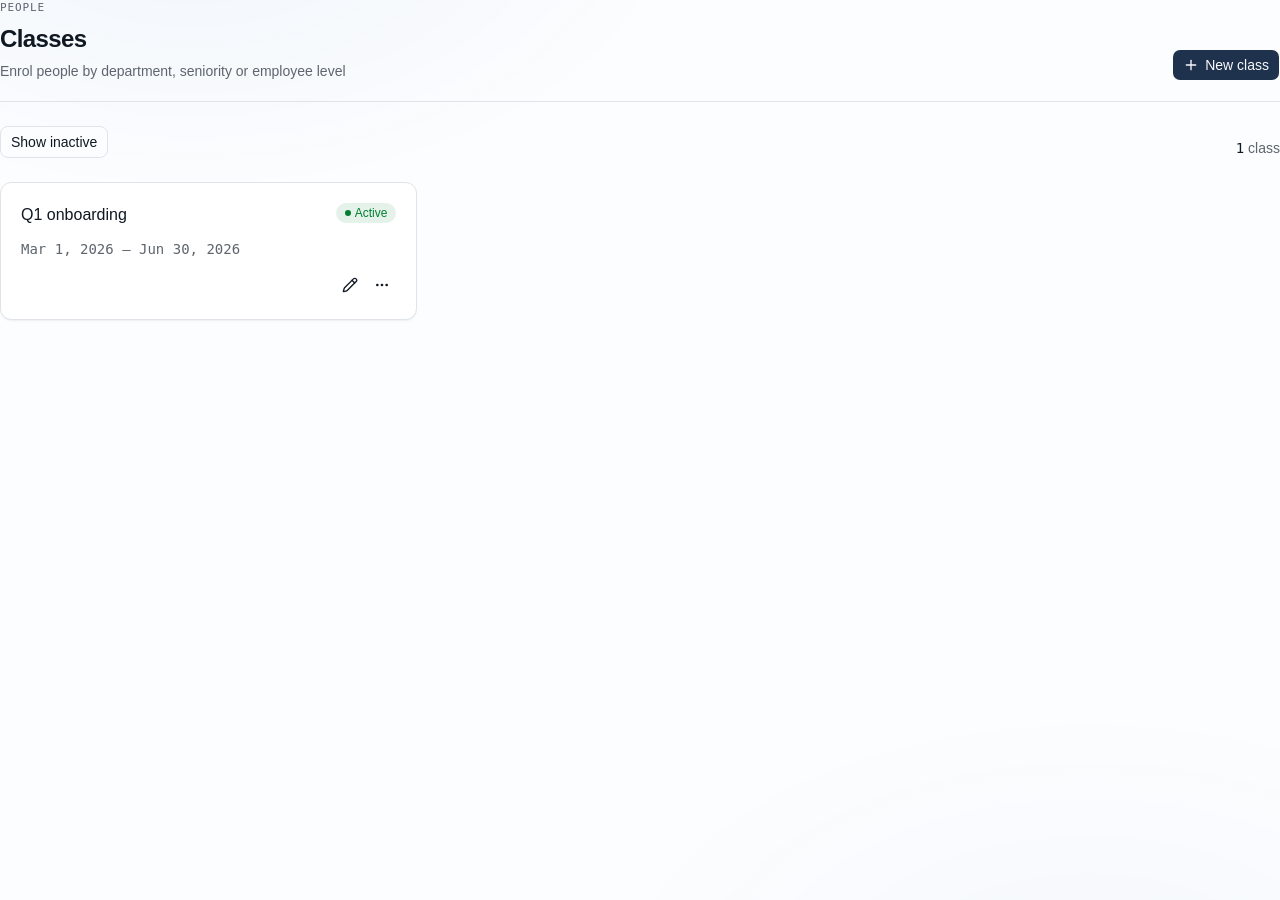
it: ClassesPage › edits a class through the same dialog
This screenshot has width=1280, height=900.
Check: the link "Q1 onboarding" is shown, box [21,202,127,226]
Click the button named "Edit Q1 onboarding" at x=350, y=284, box [336,270,364,298]
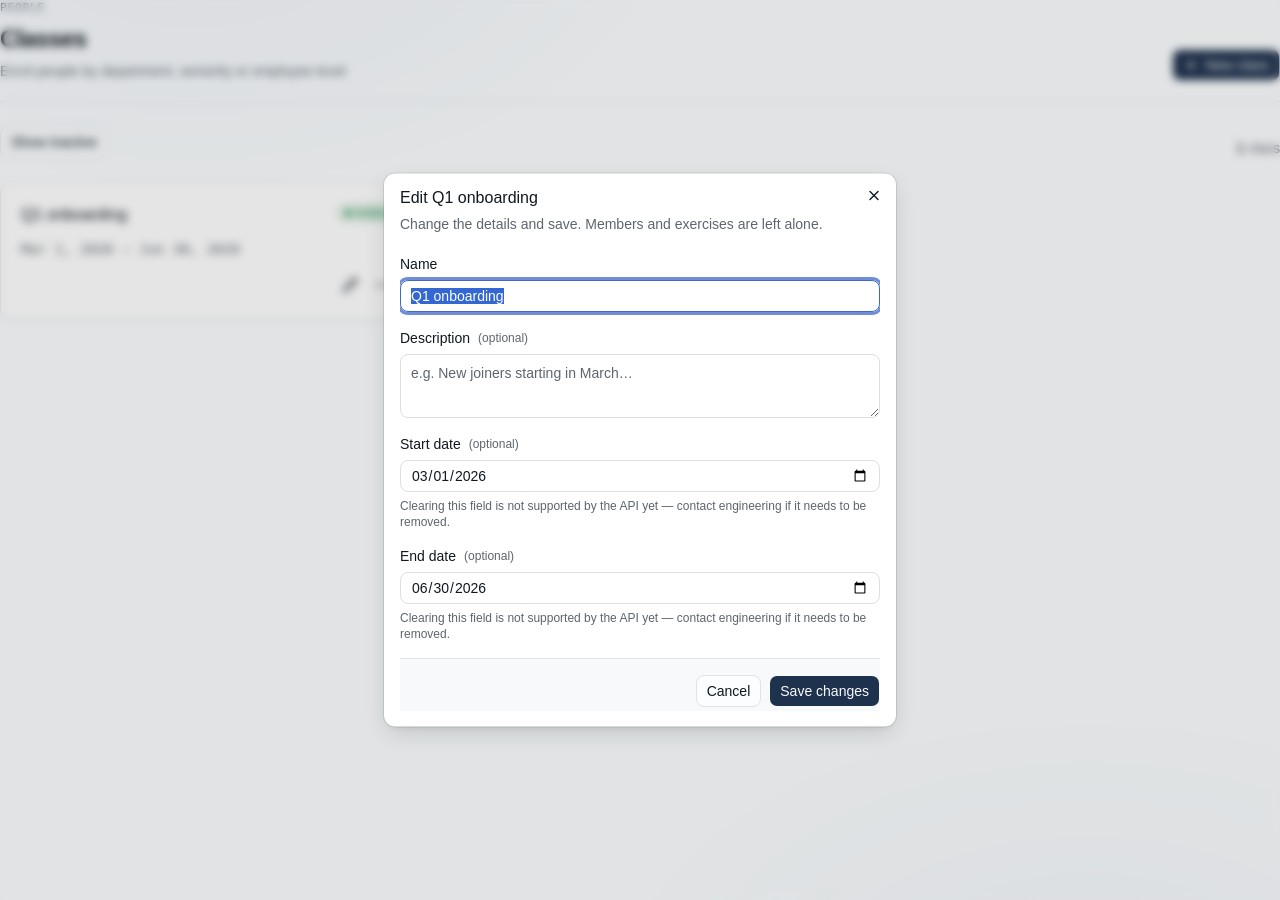
Replace the text in the field labelled "Name" with "Q1 induction" at x=640, y=296, box [400,280,880,312]
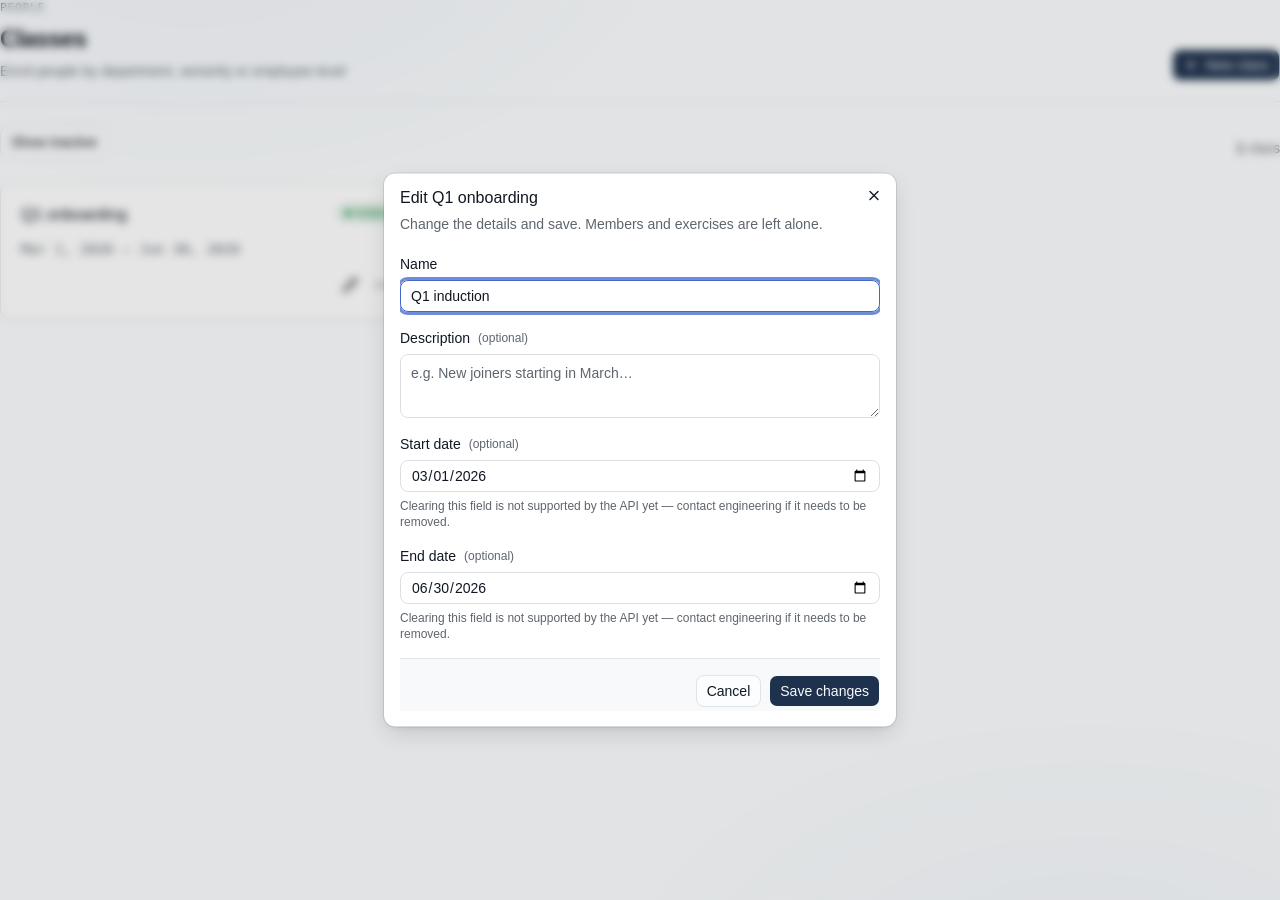
Click the button "Save changes" at x=825, y=690, box [769,674,880,706]
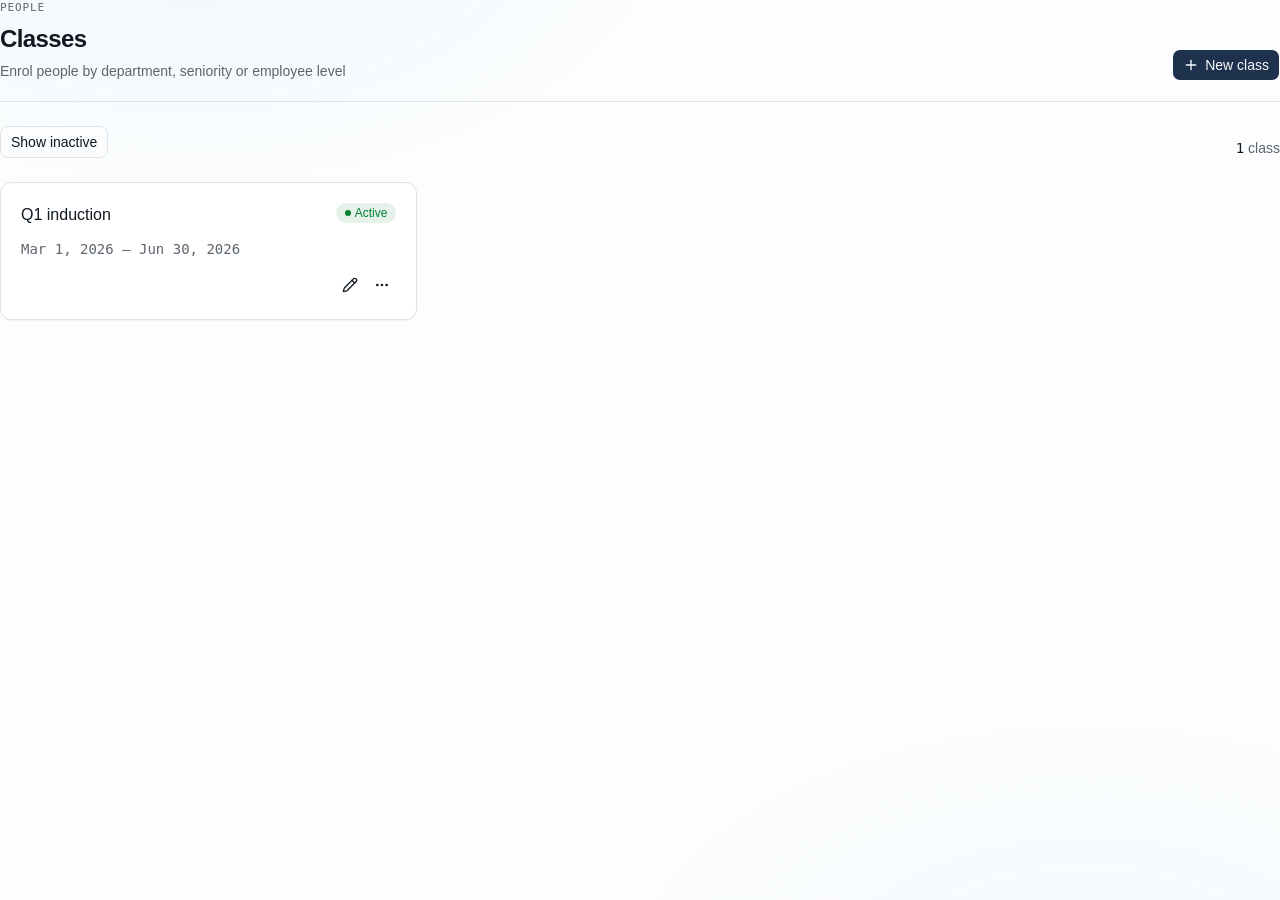
Check: the link "Q1 induction" is shown, box [21,202,111,226]
